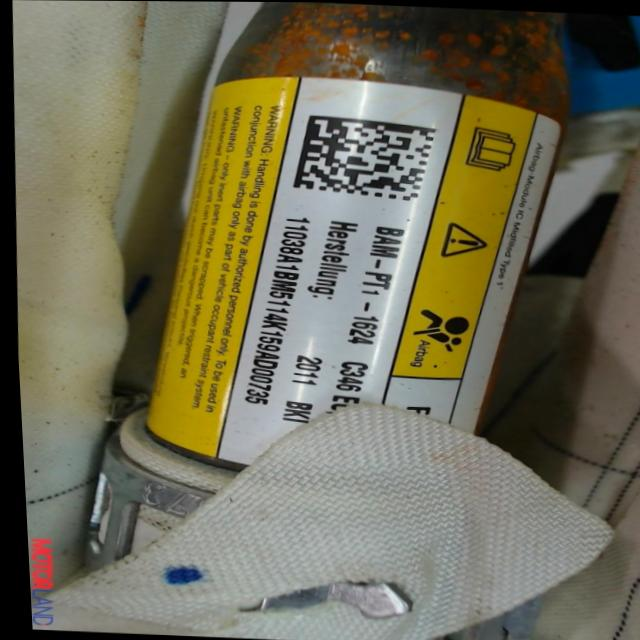datamatrix: (288, 114, 439, 202)
